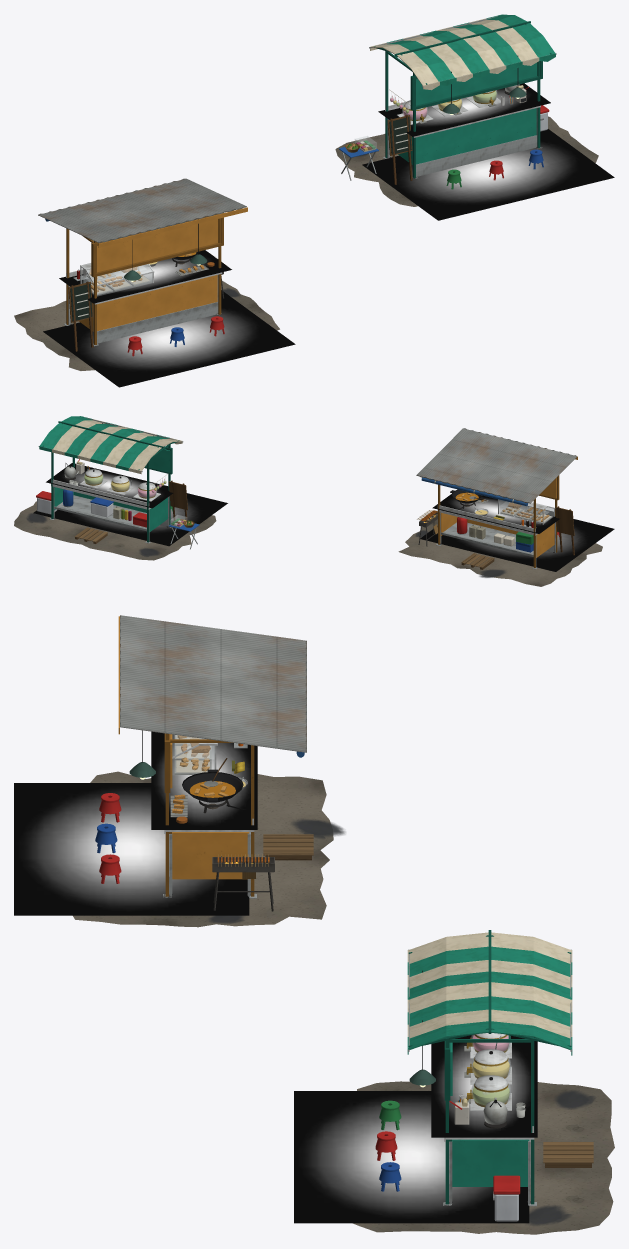
The model's file is LM_ENV_Stalls.glb.
3 views of the same model, one above another, from view 1: azimuth 30°, elevation 25°; view 2: azimuth 150°, elevation 25°; view 3: azimuth 270°, elevation 25° (orthographic). The views are drawn at different scales.
Visible parts, largest first — view 1: stalls | Night wash, stalls | Stall paint, stalls | Stall canvas, stalls | Stall zinc, stalls | Stall steel, stalls | Stall slab, stalls | Stall plastic, stalls | Stall glass, stalls | Stall iron, stalls | Stall wood, stalls | Stall liquid; view 2: stalls | Night wash, stalls | Stall zinc, stalls | Stall slab, stalls | Stall steel, stalls | Stall canvas, stalls | Stall paint, stalls | Stall wood, stalls | Stall plastic, stalls | Stall glass, stalls | Stall liquid, stalls | Stall puddle, stalls | Stall iron (+1 smaller); view 3: stalls | Night wash, stalls | Stall slab, stalls | Stall zinc, stalls | Stall canvas, stalls | Stall paint, stalls | Stall steel, stalls | Stall plastic, stalls | Stall wood, stalls | Stall glass, stalls | Stall puddle, stalls | Stall liquid, stalls | Stall iron (+1 smaller).
Part boxes in pixels (bbox=[...]): stalls | Night wash: bbox=[43, 83, 614, 387]; stalls | Stall paint: bbox=[66, 15, 551, 344]; stalls | Stall canvas: bbox=[45, 14, 555, 221]; stalls | Stall zinc: bbox=[38, 178, 246, 243]; stalls | Stall steel: bbox=[64, 16, 556, 346]; stalls | Stall slab: bbox=[14, 116, 598, 370]; stalls | Stall plastic: bbox=[77, 85, 549, 356]; stalls | Stall glass: bbox=[81, 90, 512, 296]; stalls | Stall iron: bbox=[70, 55, 537, 339]; stalls | Stall wood: bbox=[68, 115, 412, 351]; stalls | Stall liquid: bbox=[147, 91, 496, 266]; stalls | Night wash: bbox=[33, 463, 614, 571]; stalls | Stall zinc: bbox=[416, 428, 577, 503]; stalls | Stall slab: bbox=[14, 501, 602, 586]; stalls | Stall steel: bbox=[38, 417, 555, 569]; stalls | Stall canvas: bbox=[39, 416, 528, 506]; stalls | Stall paint: bbox=[42, 417, 577, 567]; stalls | Stall wood: bbox=[74, 480, 574, 569]; stalls | Stall plastic: bbox=[36, 461, 559, 552]; stalls | Stall glass: bbox=[84, 469, 553, 526]; stalls | Stall liquid: bbox=[84, 475, 487, 514]; stalls | Stall puddle: bbox=[26, 513, 506, 577]; stalls | Stall iron: bbox=[53, 423, 554, 552]; stalls | Night wash: bbox=[14, 731, 537, 1223]; stalls | Stall slab: bbox=[73, 771, 614, 1234]; stalls | Stall zinc: bbox=[120, 615, 306, 752]; stalls | Stall canvas: bbox=[296, 751, 572, 1055]; stalls | Stall paint: bbox=[118, 616, 571, 1204]; stalls | Stall steel: bbox=[163, 735, 571, 1206]; stalls | Stall plastic: bbox=[95, 743, 520, 1221]; stalls | Stall wood: bbox=[212, 758, 593, 1167]; stalls | Stall glass: bbox=[172, 735, 510, 1106]; stalls | Stall puddle: bbox=[208, 819, 595, 1225]; stalls | Stall liquid: bbox=[176, 781, 509, 1105]; stalls | Stall iron: bbox=[104, 730, 530, 1203].
Size of the model in its own units: 19.57 by 3.56 by 10.73.
Materials: 16 (10 with a texture image).
